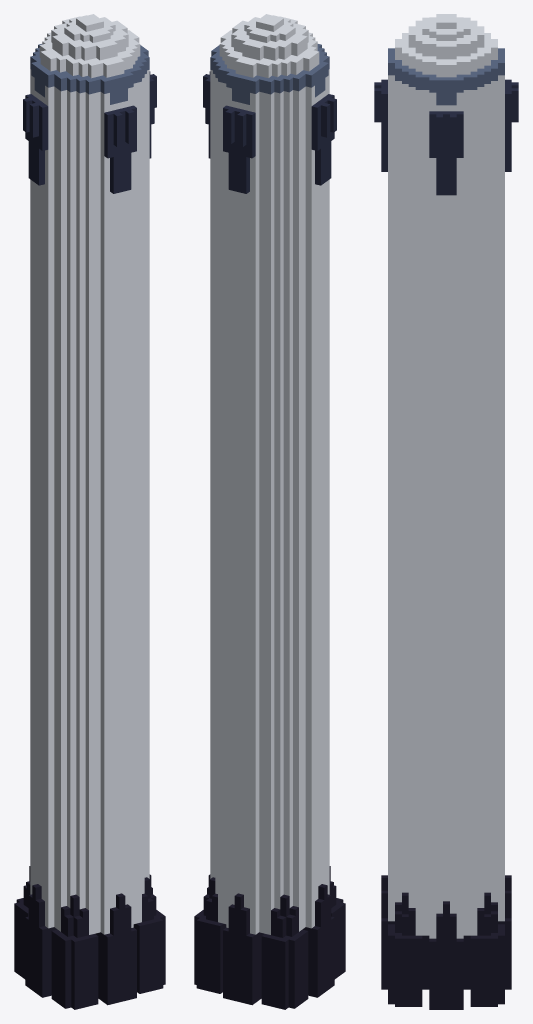
File: pelicano_booster.glb
The picture shows the model from 3 angles, left to right: view 1: azimuth 30°, elevation 25°; view 2: azimuth 150°, elevation 25°; view 3: azimuth 270°, elevation 25°; orthographic projection.
Visible parts, largest first — view 1: ObjObject.022; view 2: ObjObject.022; view 3: ObjObject.022.
Part boxes in pixels (bbox=[...]): ObjObject.022: bbox=[14, 14, 165, 1009]; ObjObject.022: bbox=[194, 14, 345, 1009]; ObjObject.022: bbox=[374, 14, 518, 1009].
Bounding box in the file's own units: 2.1 × 15.5 × 2.1.
Materials: 1 (1 with a texture image).
